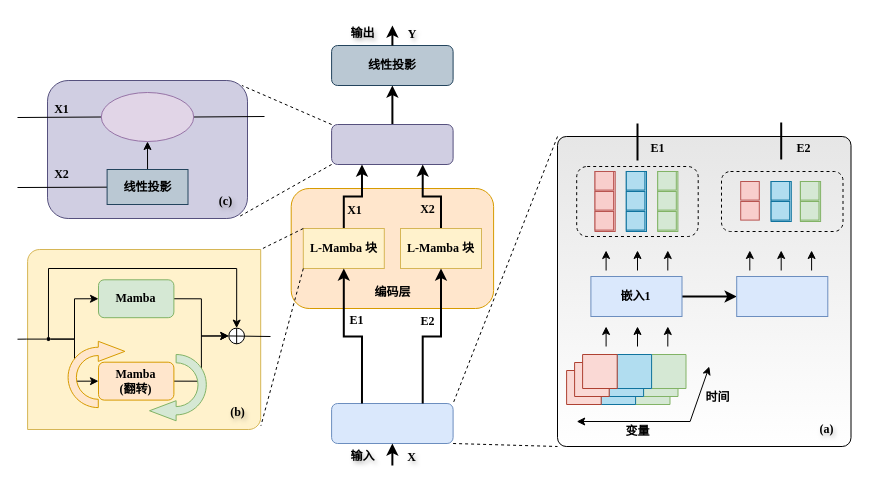
Image size: 869x491. Some labels were removed from this diagram. The shapes that lost their labels are listed below. From the top down, each one's centre as x and y in pixels, then its label:
At pixel 147 117: "串联".
At pixel 392 144: "融合层".
At pixel 782 296: "嵌入2".
At pixel 392 423: "嵌入层".
